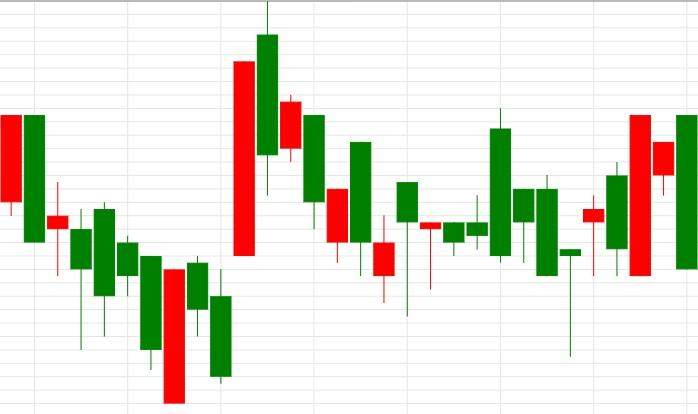bearish_engulfing_fall: (559, 115, 698, 357)
